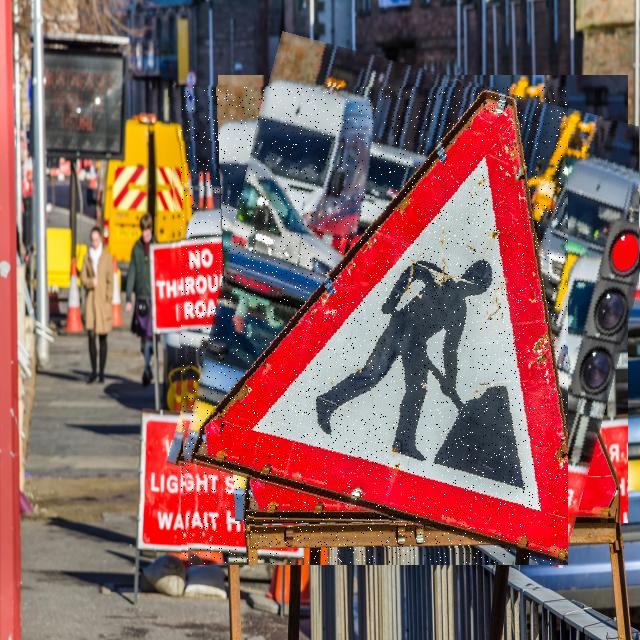roadwork: (182, 87, 567, 564)
